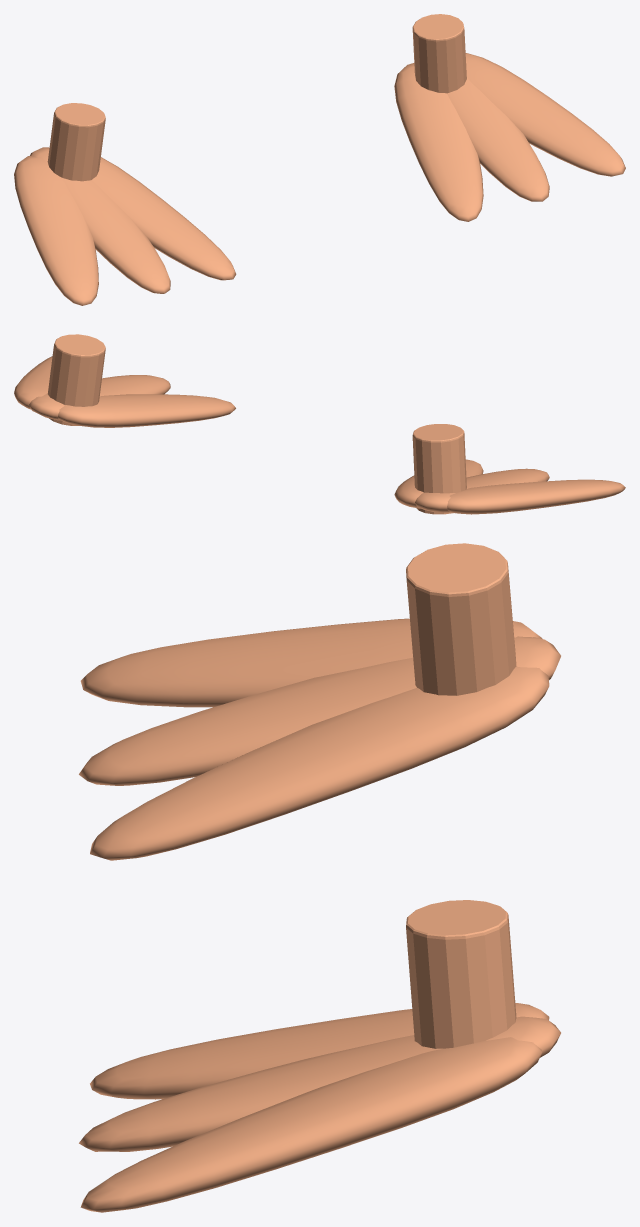
Rendered from Level_P_18_Fix.fbx.
The picture shows the model from 3 angles, top to bottom: view 1: azimuth 30°, elevation 25°; view 2: azimuth 150°, elevation 25°; view 3: azimuth 270°, elevation 25°; orthographic projection. The views are drawn at different scales.
Parts seen in each view (by area): view 1: Cube_18.001, Cube_18.026; view 2: Cube_18.001, Cube_18.026; view 3: Cube_18.026, Cube_18.001.
Boxes of the visible parts, x1,y1,x2,y2 form: Cube_18.001: (394, 14, 625, 221); Cube_18.026: (14, 103, 236, 305); Cube_18.001: (14, 334, 235, 427); Cube_18.026: (394, 424, 625, 514); Cube_18.026: (79, 543, 560, 860); Cube_18.001: (79, 900, 560, 1212).
Bounding box in the file's own units: 6.06 × 1.22 × 2.27.
